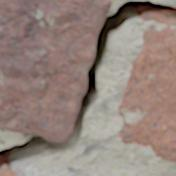brick: (0, 0, 111, 141), (119, 23, 175, 160)
broken_brick: (0, 169, 23, 175)
crack: (0, 0, 175, 174)
